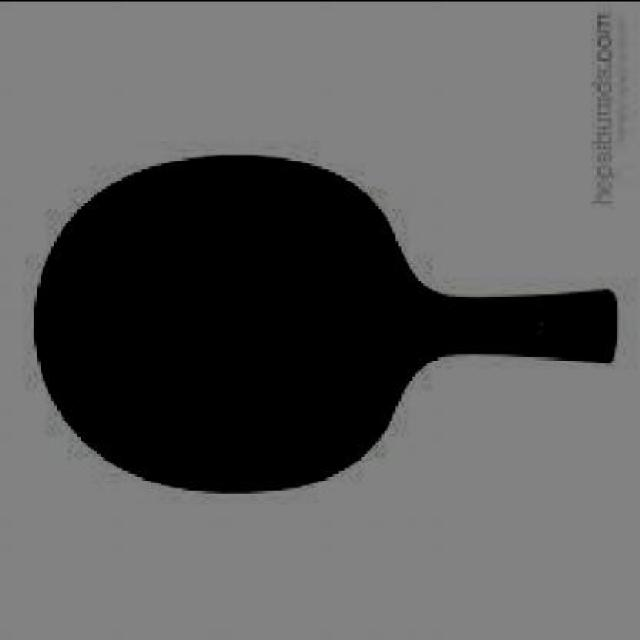table_tennis_racket: (36, 149, 436, 495)
